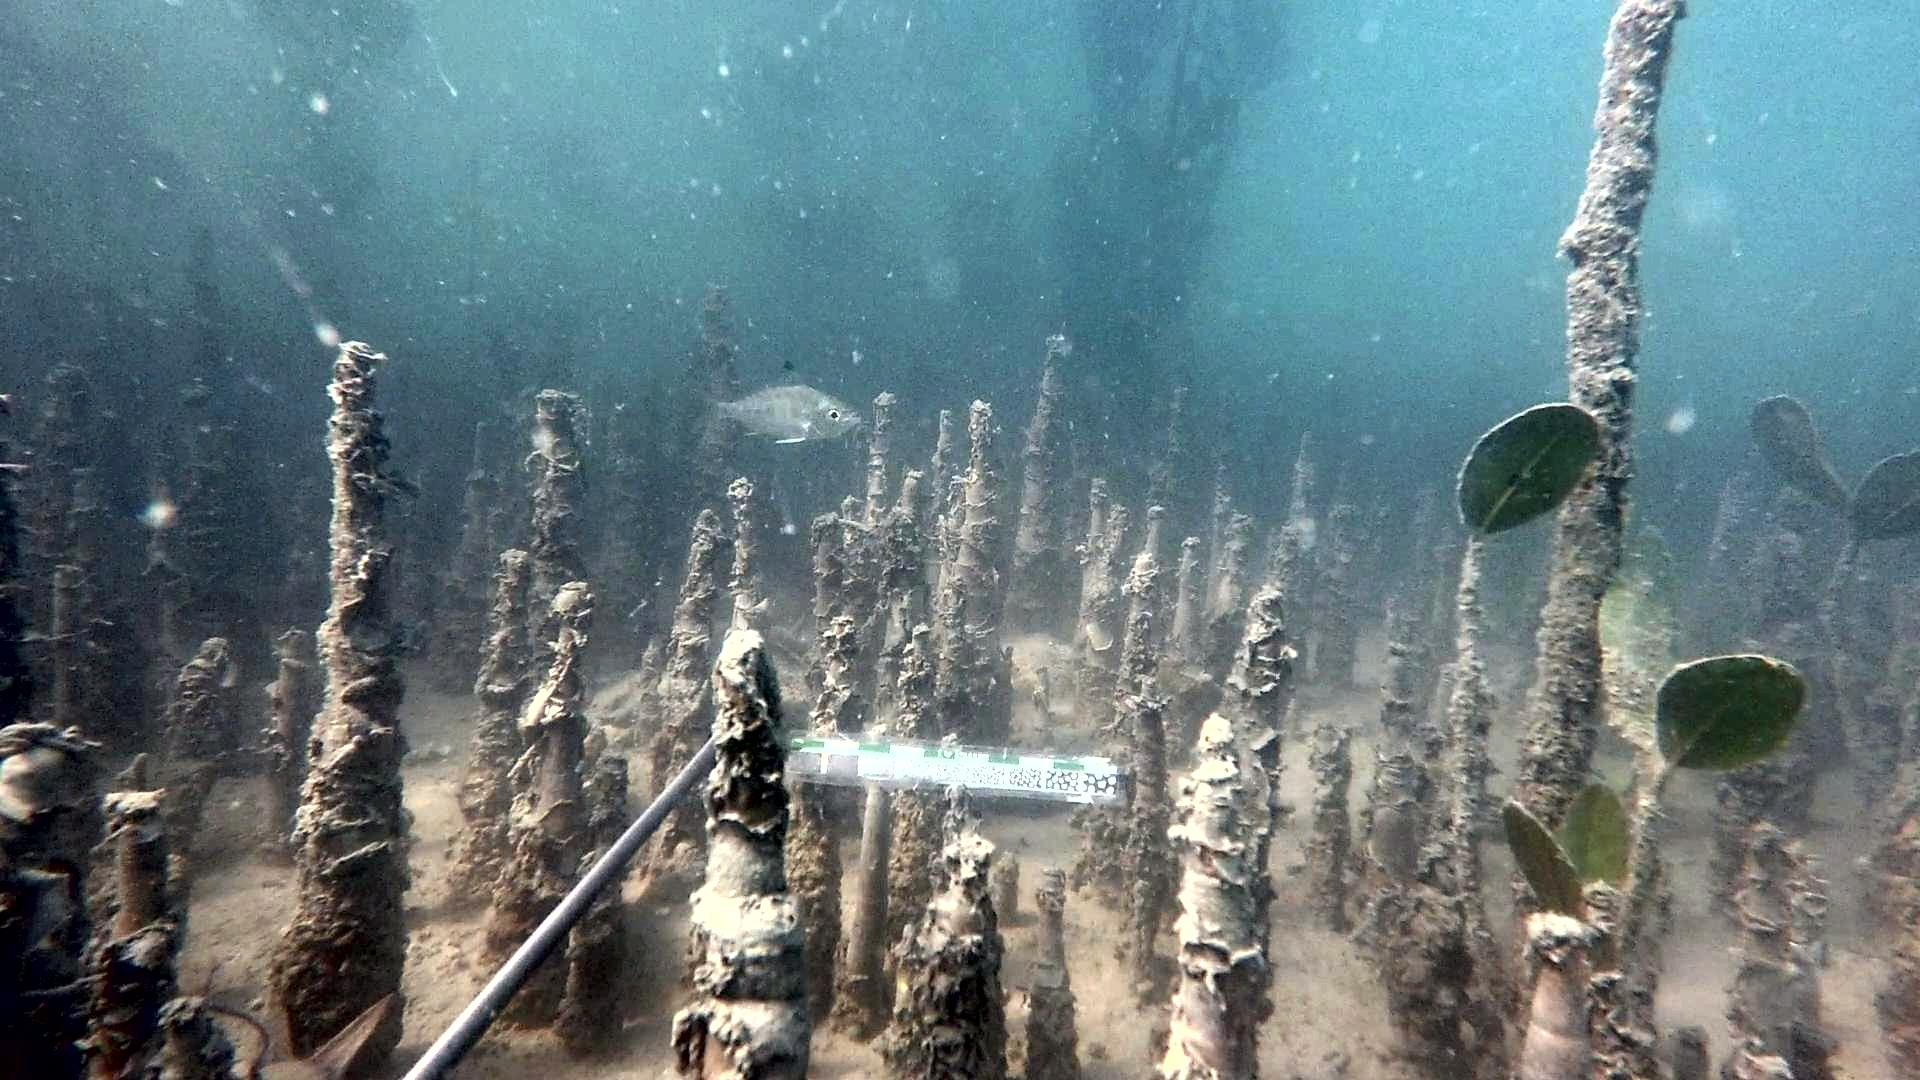gerres: (698, 357, 865, 447)
